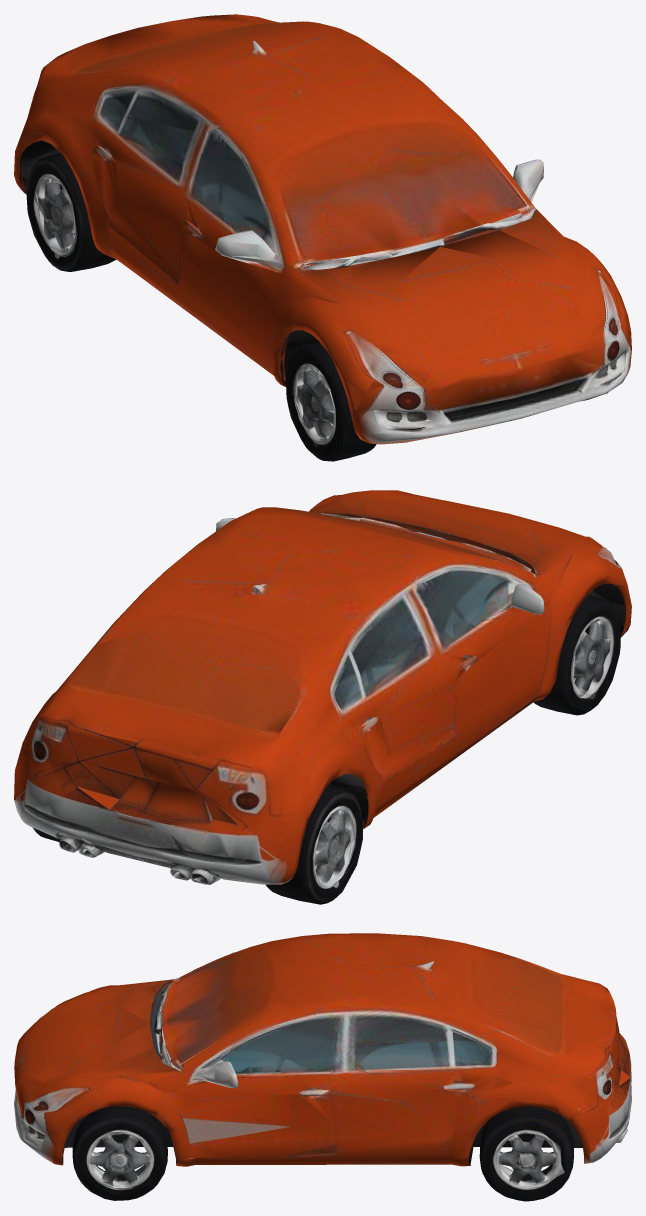
File: gridlock_gridlockSedanPastel.94d3d031.glb
3 views of the same model, one above another, from view 1: azimuth 30°, elevation 25°; view 2: azimuth 150°, elevation 25°; view 3: azimuth 270°, elevation 25° (orthographic). The views are drawn at different scales.
Size of the model in its own units: 0.9177 by 0.6385 by 1.9.
1 material, 1 textured.
